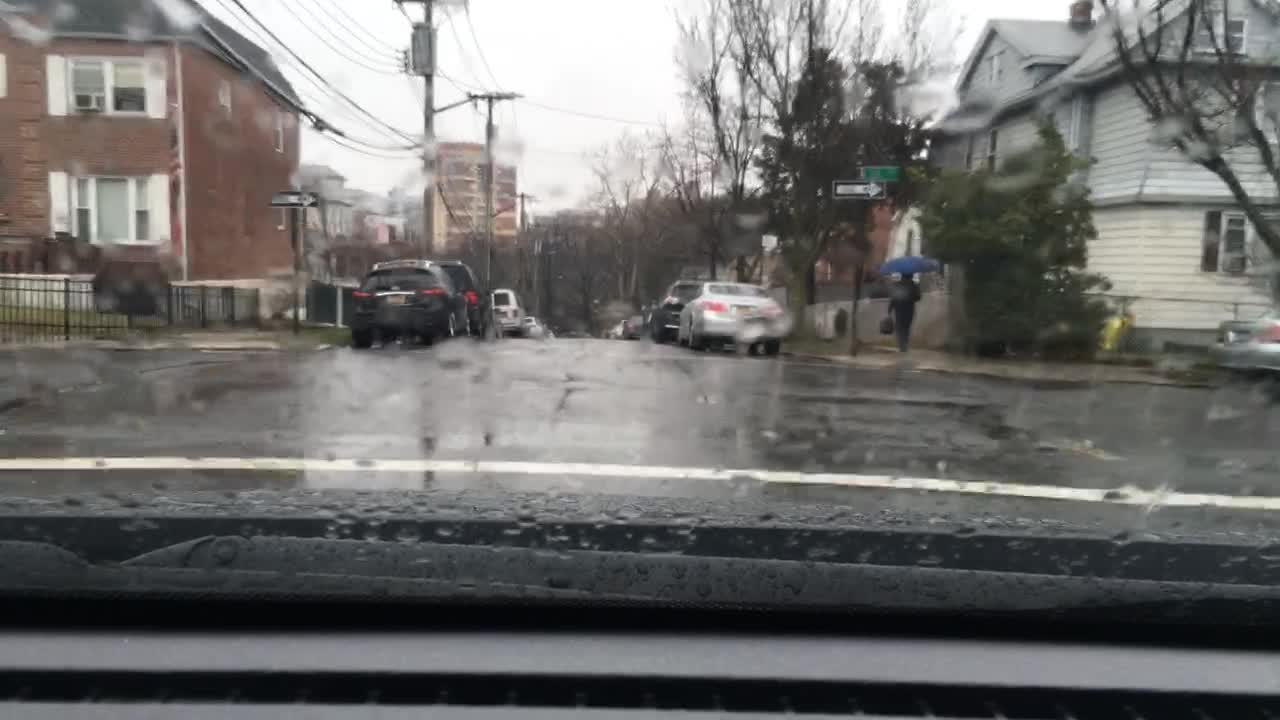car: (345, 257, 468, 346), (678, 283, 792, 354), (1207, 303, 1279, 389), (434, 257, 489, 335), (647, 279, 707, 343), (489, 285, 517, 337), (625, 304, 652, 335), (517, 315, 550, 335), (598, 322, 626, 338), (552, 330, 593, 337)
person: (875, 273, 923, 352)
traffic sign: (830, 180, 886, 199), (270, 190, 320, 208), (861, 165, 901, 177)
